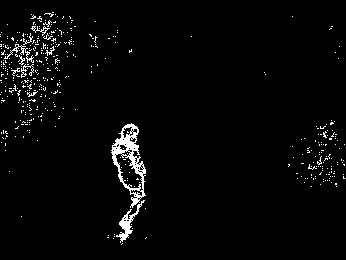person: (109, 123, 147, 241)
